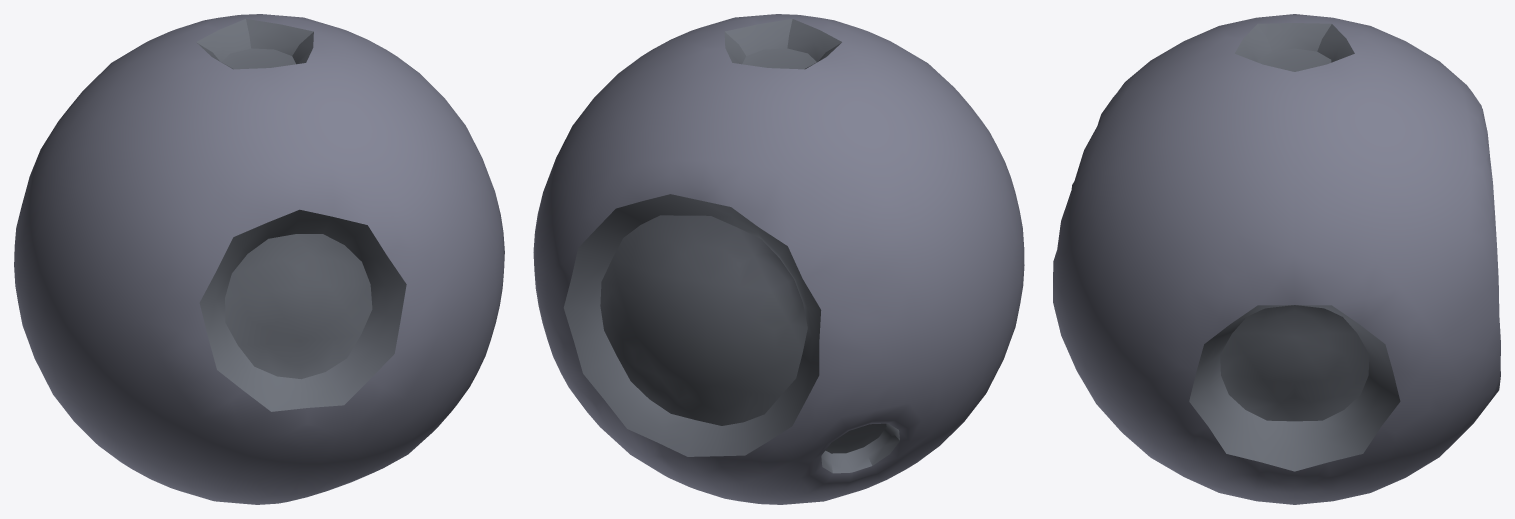
Rendered from q-planet-4nxxeyympj.glb.
The picture shows the model from 3 angles, left to right: view 1: azimuth 30°, elevation 25°; view 2: azimuth 150°, elevation 25°; view 3: azimuth 270°, elevation 25°; orthographic projection.
Visible parts, largest first — view 1: Planet_3; view 2: Planet_3; view 3: Planet_3.
Boxes of the visible parts, <box> form: Planet_3: <box>14,14,504,504</box>; Planet_3: <box>533,14,1024,504</box>; Planet_3: <box>1053,14,1500,504</box>.
Bounding box in the file's own units: 3.66 × 3.68 × 3.41.
Materials: 1 (1 with a texture image).
